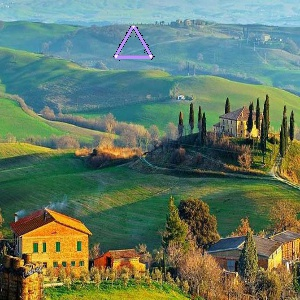triangle: (111, 22, 156, 64)
